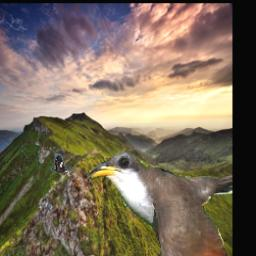Cuckoo: (87, 150, 232, 256)
Woodpecker: (50, 154, 70, 173)
